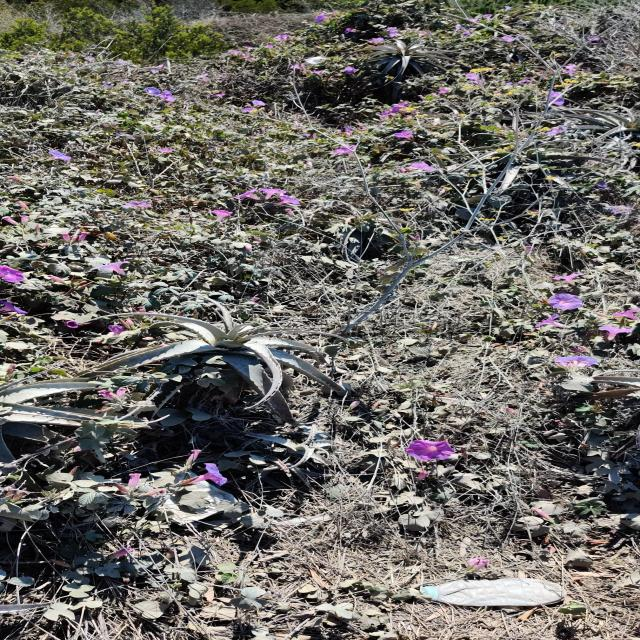litter: (421, 579, 565, 608)
